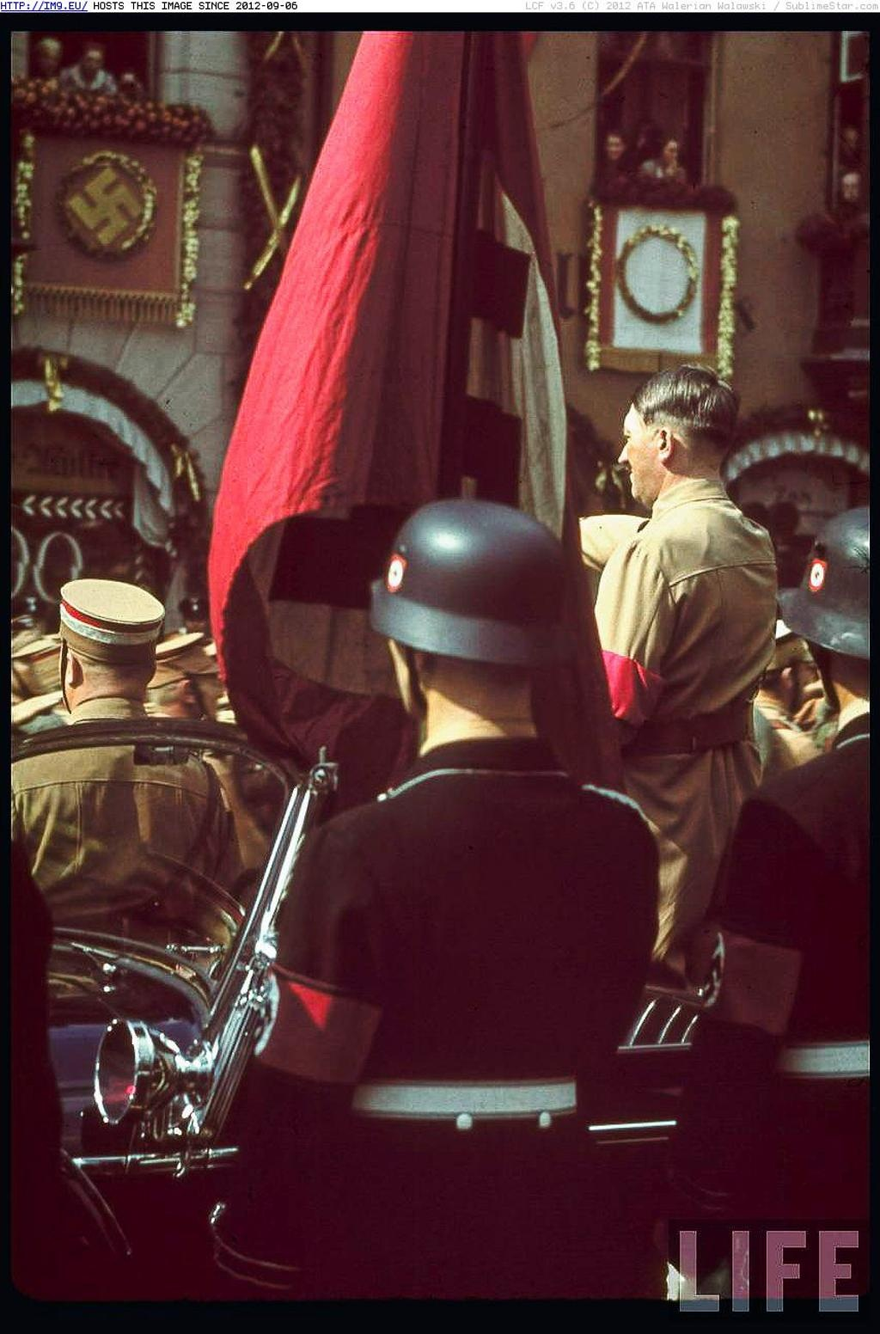human_face: (616, 408, 677, 498), (191, 662, 226, 730), (782, 654, 816, 713), (185, 613, 205, 639), (84, 48, 101, 74), (42, 47, 59, 72), (606, 136, 623, 160), (843, 132, 859, 156), (843, 177, 859, 201), (665, 141, 679, 167)
